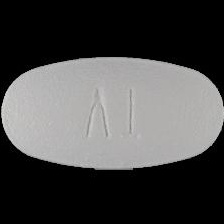69189-7295: (0, 0, 224, 224)
